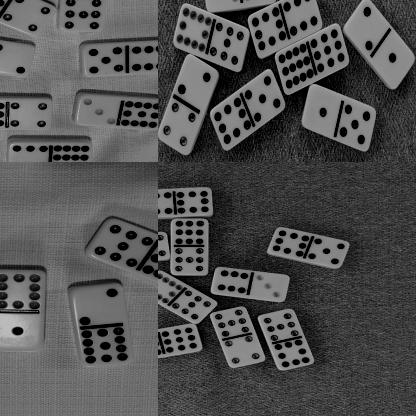pip-1: (378, 37, 416, 89), (302, 85, 340, 137), (0, 315, 45, 354)
pip-10: (174, 2, 213, 54), (0, 269, 47, 312), (158, 271, 184, 304)
pip-11: (80, 328, 134, 366), (122, 98, 158, 131)
pip-12: (276, 43, 315, 96), (51, 143, 92, 162), (143, 243, 158, 289)
pip-2: (71, 285, 129, 327), (178, 56, 218, 110), (343, 0, 383, 53), (0, 39, 37, 78)
pip-3: (76, 95, 122, 126), (250, 272, 290, 303), (202, 0, 240, 13)
pip-4: (158, 104, 197, 158), (4, 0, 56, 37), (222, 336, 266, 370), (9, 98, 53, 131)
pip-5: (245, 70, 284, 124), (339, 102, 377, 152), (82, 44, 128, 77), (308, 239, 350, 269)
pip-6: (284, 0, 322, 36), (212, 267, 250, 298), (128, 41, 158, 74), (9, 141, 50, 162), (158, 189, 174, 219)
pip-7: (90, 219, 153, 269), (210, 22, 250, 74), (171, 292, 219, 325), (60, 0, 104, 33), (258, 308, 300, 342), (210, 306, 250, 338), (170, 247, 209, 277), (158, 231, 170, 262)
pip-8: (211, 98, 251, 152), (248, 7, 287, 60), (267, 227, 311, 258), (274, 339, 315, 372), (176, 188, 215, 216)
pip-9: (312, 24, 350, 74), (161, 324, 203, 355), (170, 218, 211, 247)
